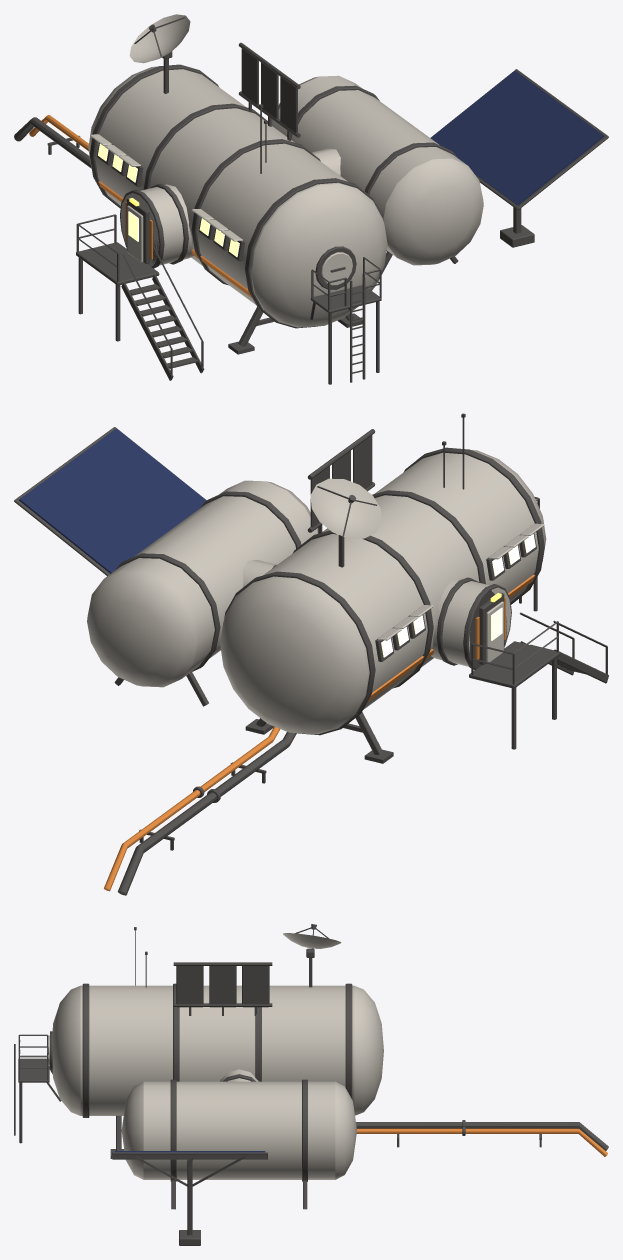
File: habitat.glb
3 renders of one model, top to bottom at view 1: azimuth 30°, elevation 25°; view 2: azimuth 150°, elevation 25°; view 3: azimuth 270°, elevation 25°, orthographic. The views are drawn at different scales.
Parts seen in each view (by area): view 1: habitat; view 2: habitat; view 3: habitat.
Boxes of the visible parts, <box> form: habitat: <box>14,14,608,384</box>; habitat: <box>14,413,608,895</box>; habitat: <box>14,924,608,1245</box>.
Size of the model in its own units: 16.09 by 8.64 by 21.73.
